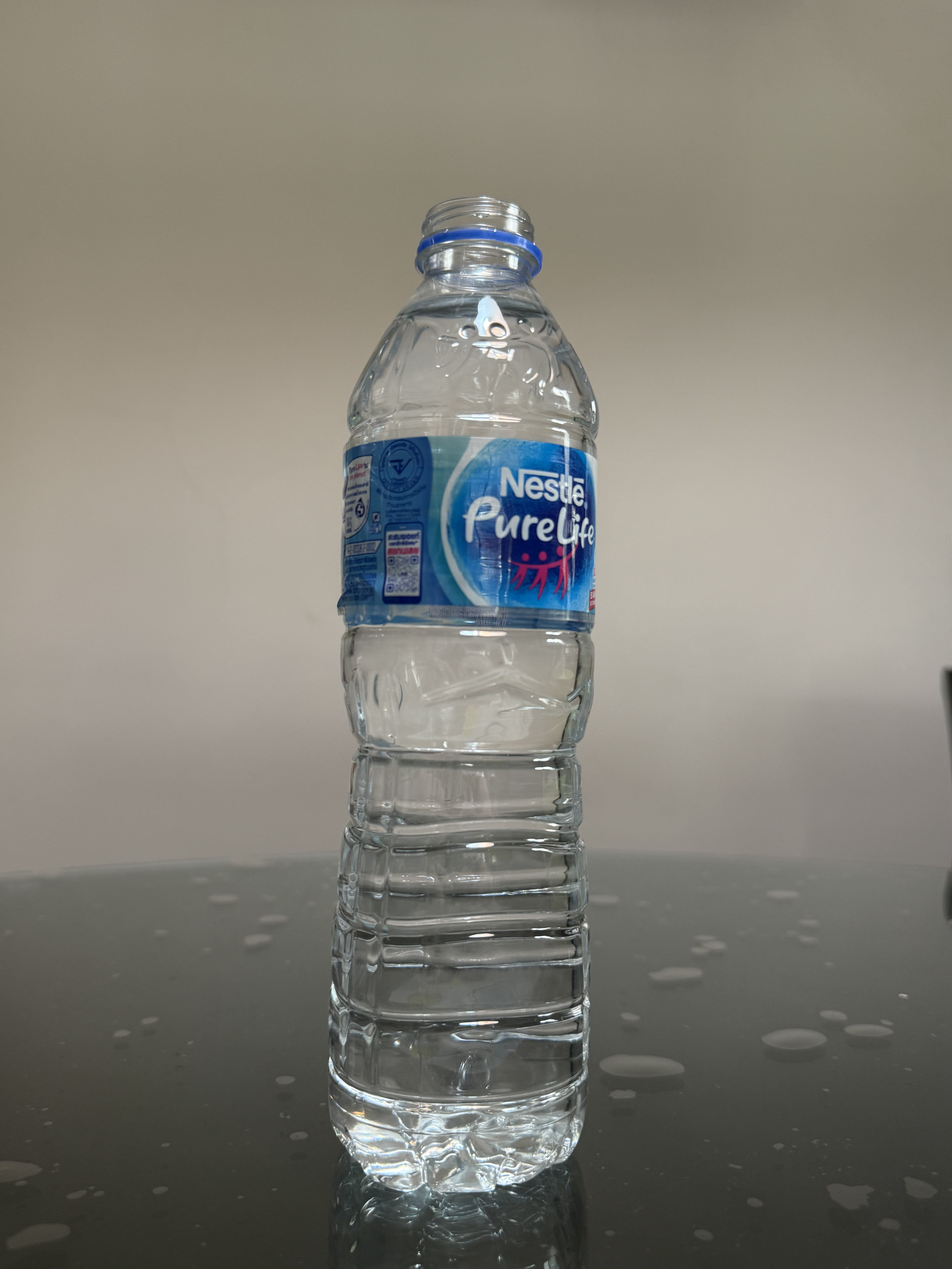no_cap: (413, 195, 544, 274)
